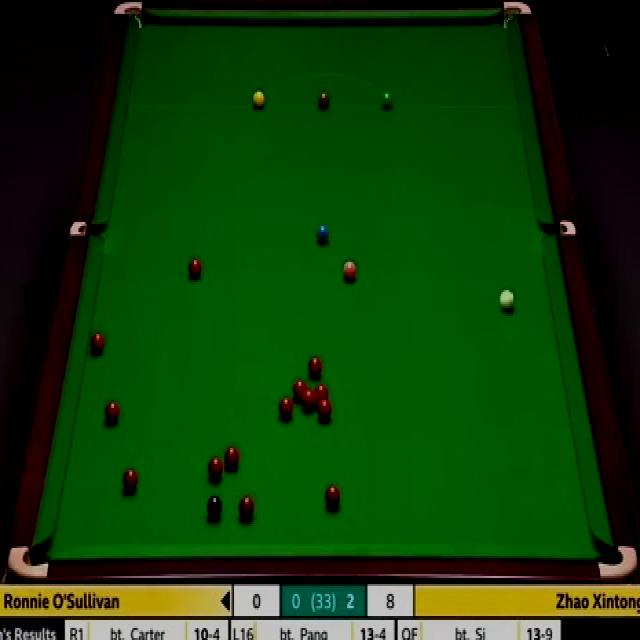black-ball: (207, 494, 224, 518)
blue-ball: (316, 222, 330, 247)
brown-ball: (317, 90, 330, 109)
green-ball: (381, 90, 394, 109)
pink-ball: (342, 262, 358, 284)
red-ball: (324, 481, 342, 512), (88, 331, 107, 358), (119, 467, 138, 492), (238, 494, 255, 521), (102, 398, 119, 423), (306, 356, 325, 378), (292, 376, 308, 402), (224, 446, 239, 472), (314, 384, 330, 408), (208, 456, 224, 480), (278, 394, 292, 418), (301, 390, 317, 410), (188, 260, 202, 278), (310, 399, 324, 416)
white-ball: (498, 286, 514, 312)
yellow-ball: (252, 90, 265, 109)
